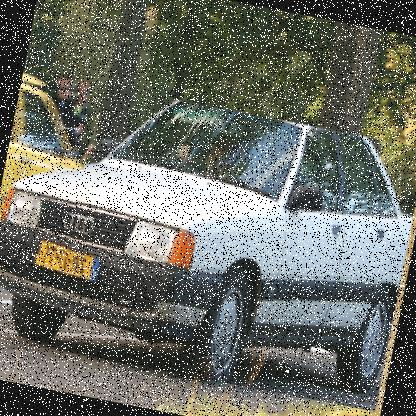Car: (0, 70, 415, 414), (0, 82, 98, 261)
